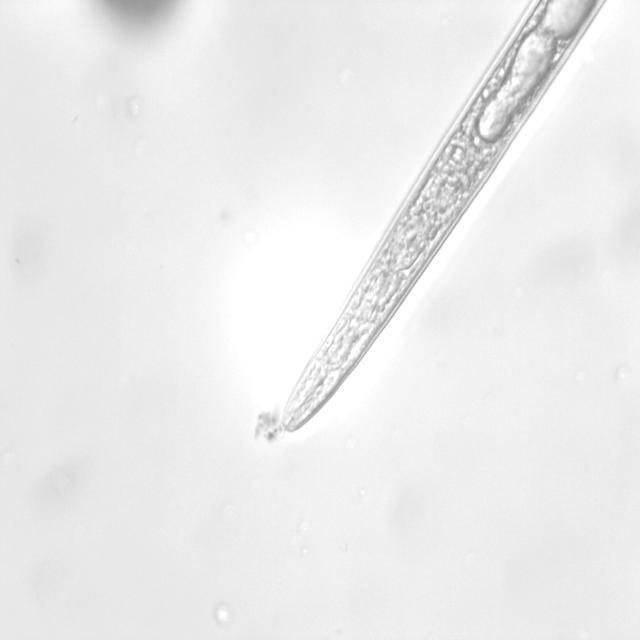Meloidogyne: (272, 0, 640, 446)
